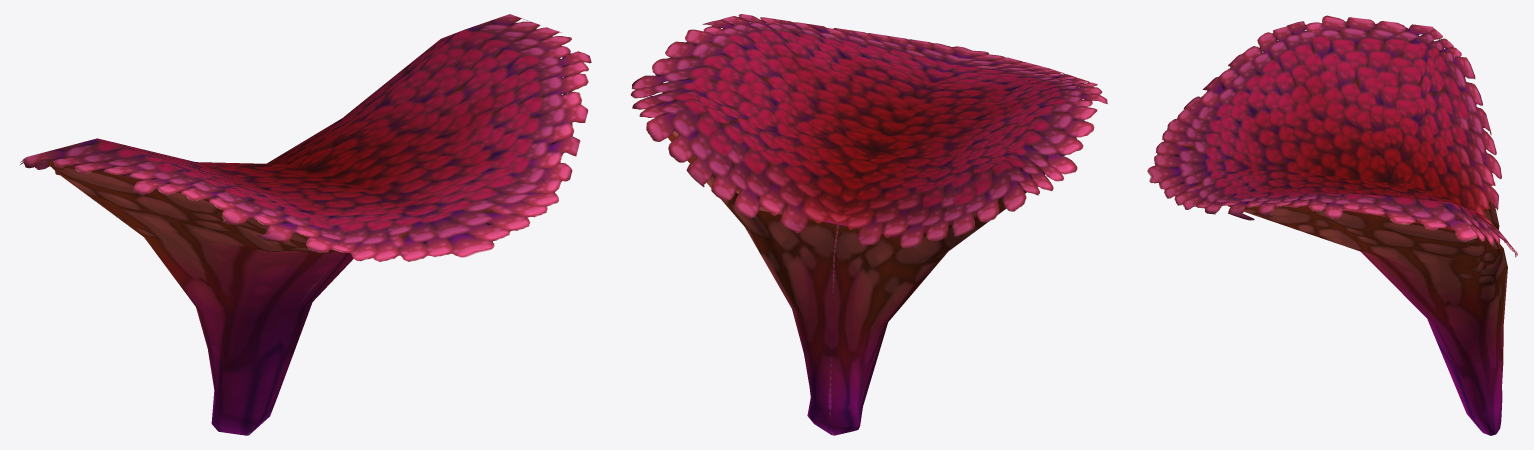
File: Coral_23.FBX
3 views of the same model, side by side, from view 1: azimuth 30°, elevation 25°; view 2: azimuth 150°, elevation 25°; view 3: azimuth 270°, elevation 25° (orthographic). The views are drawn at different scales.
Visible parts, largest first — view 1: Coral_23; view 2: Coral_23; view 3: Coral_23.
Part boxes in pixels (x1,y1,x2,y2): Coral_23: (19, 14, 591, 435); Coral_23: (630, 14, 1107, 435); Coral_23: (1147, 15, 1517, 435).
Bounding box in the file's own units: 22.91 × 16.01 × 17.11.
